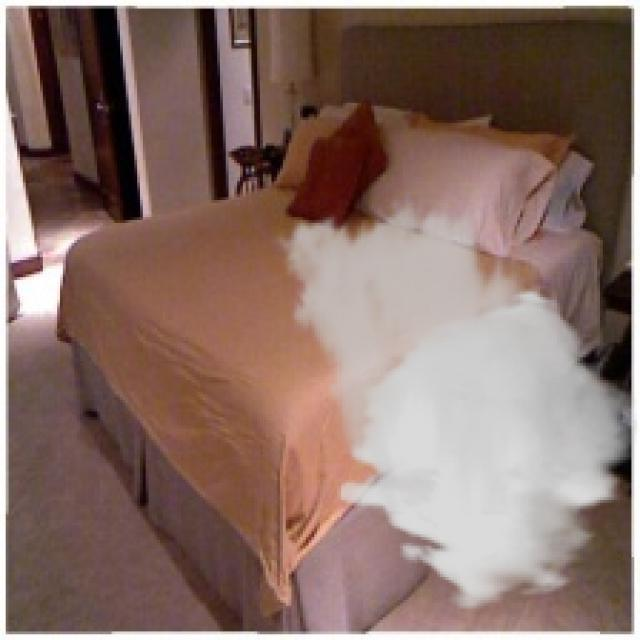Smoke: (268, 192, 638, 612)
